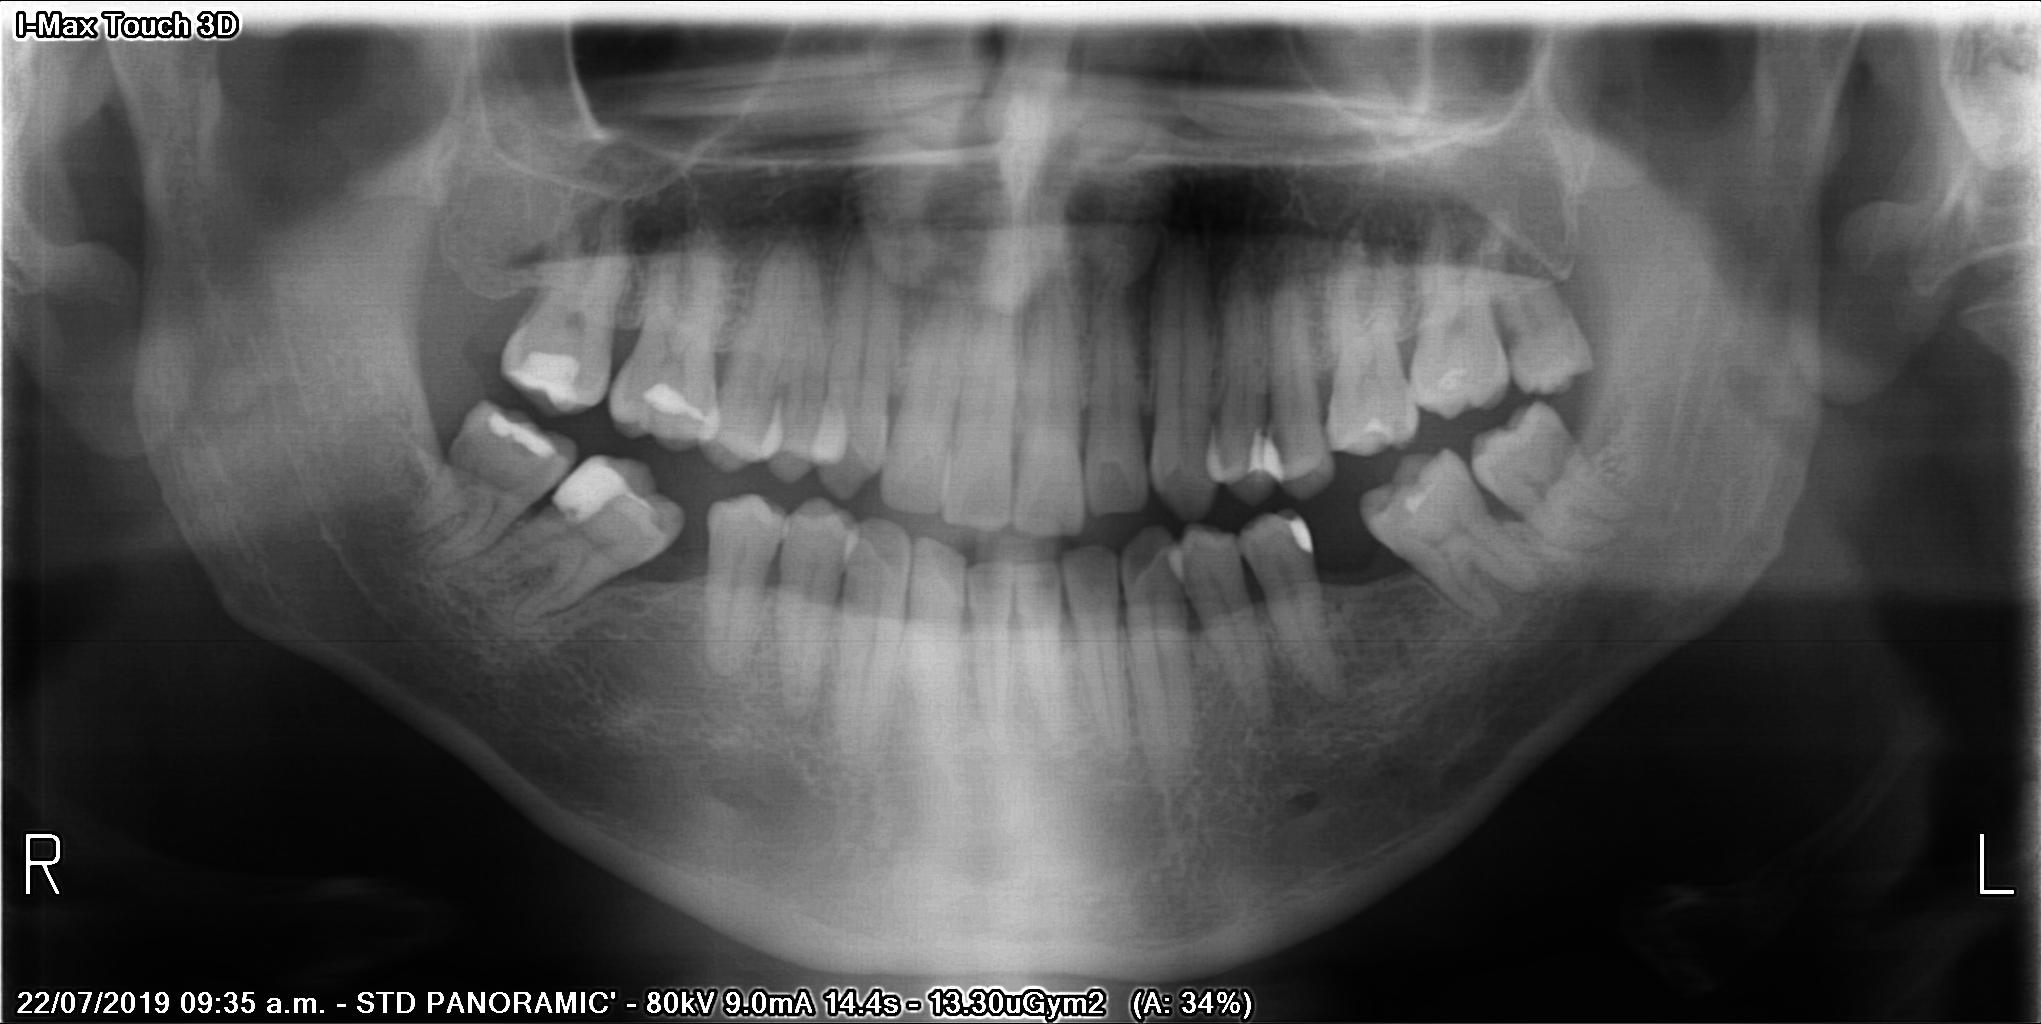Çürük: (551, 458, 640, 521), (511, 345, 585, 410), (641, 377, 713, 426), (487, 409, 555, 458), (1284, 512, 1321, 554)
Çürük Bölgesi: (558, 494, 599, 542)
